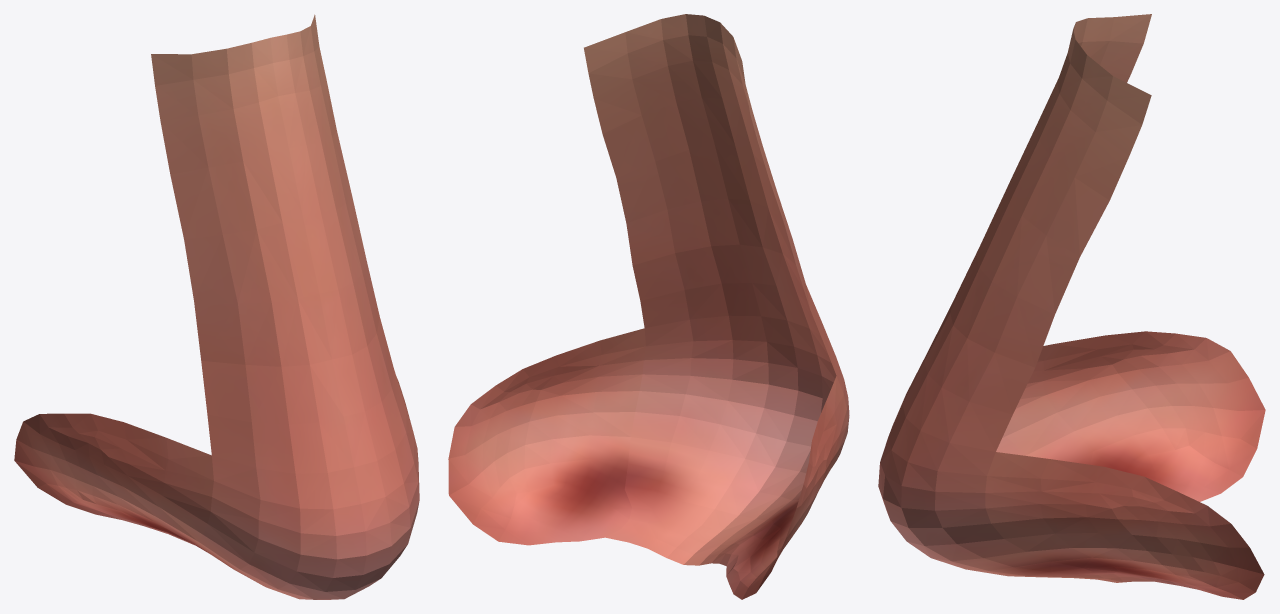
File: euro-fem-nose-region-convex.obj
3 views of the same model, side by side, from view 1: azimuth 30°, elevation 25°; view 2: azimuth 150°, elevation 25°; view 3: azimuth 270°, elevation 25° (orthographic). The views are drawn at different scales.
Visible parts, largest first — view 1: euro-fem-nose-reg.001; view 2: euro-fem-nose-reg.001; view 3: euro-fem-nose-reg.001.
Boxes of the visible parts, bbox=[...] form: euro-fem-nose-reg.001: bbox=[14, 14, 419, 599]; euro-fem-nose-reg.001: bbox=[448, 14, 849, 599]; euro-fem-nose-reg.001: bbox=[878, 14, 1265, 599].
Bounding box in the file's own units: 0.1831 × 0.274 × 0.175.
Materials: 1 (1 with a texture image).
